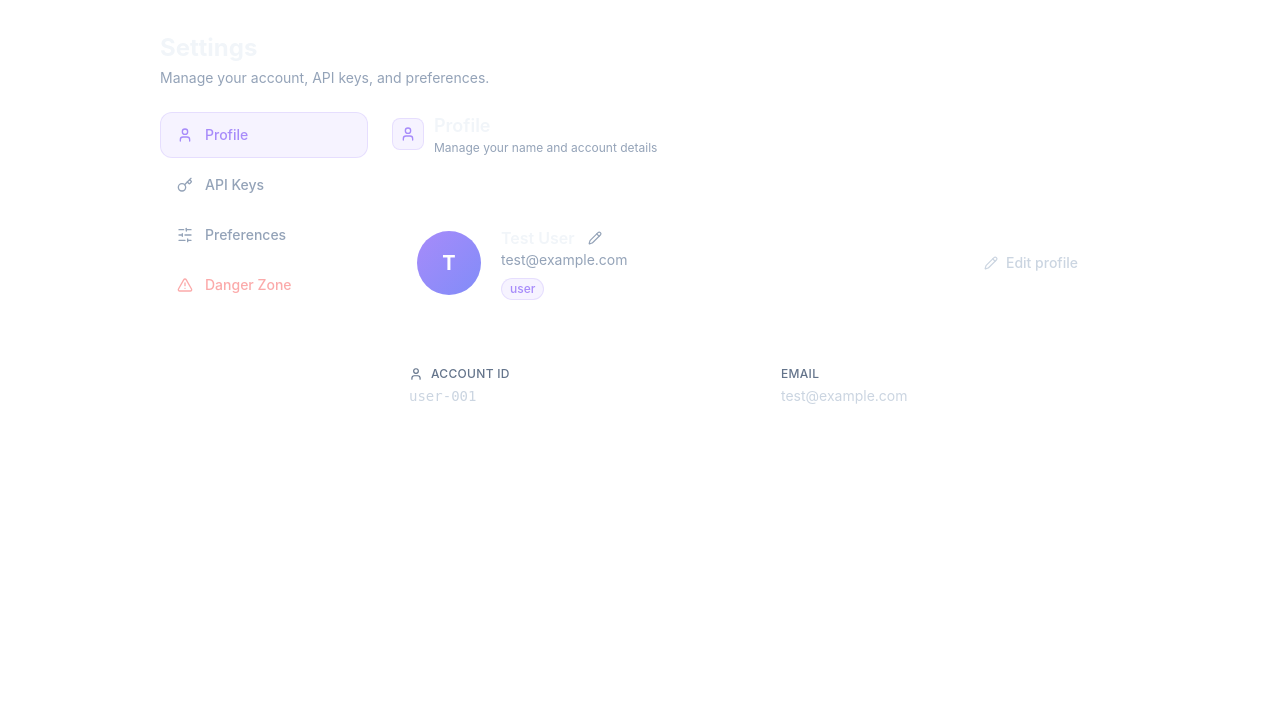
Revoke API key › removes the key from the list after successful revoke
Click the button "API Keys" at (264, 185), box [160,162,368,208]
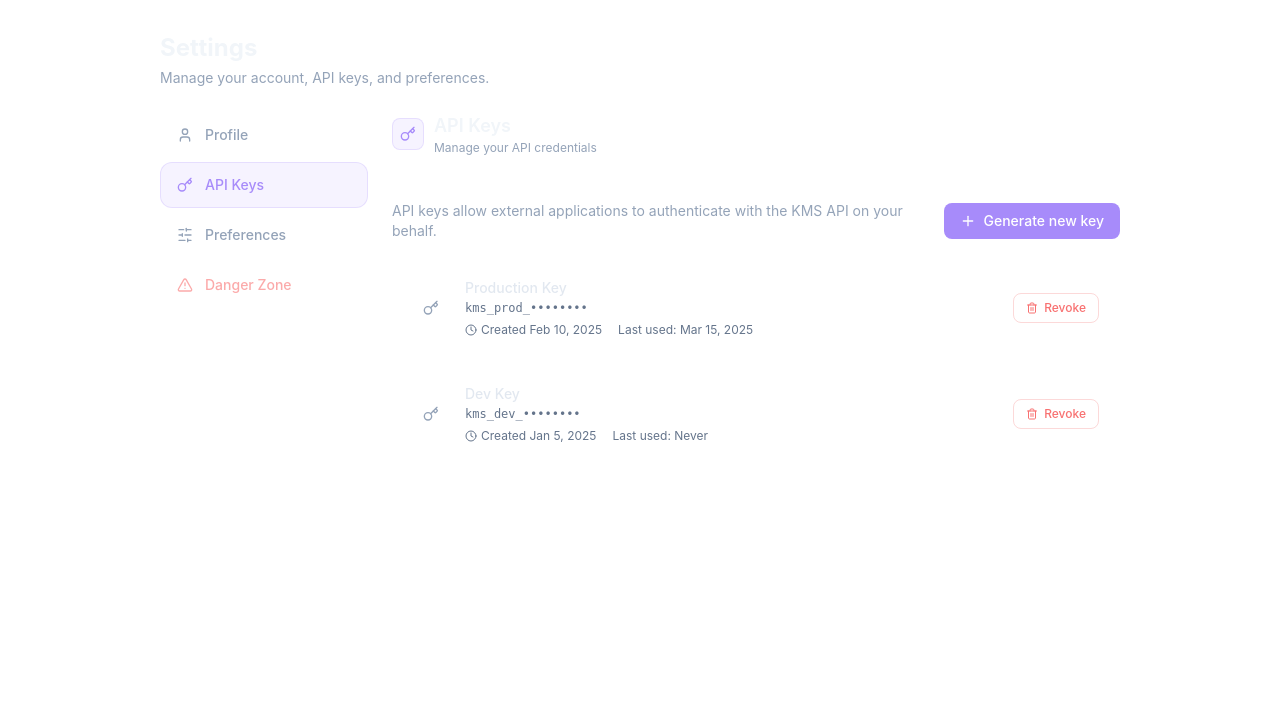
Check: the text "Production Key" is shown, box [465,279,567,296]
Click the button named "Revoke API key \"Production Key\"" at (1056, 308), box [1013,293,1099,323]
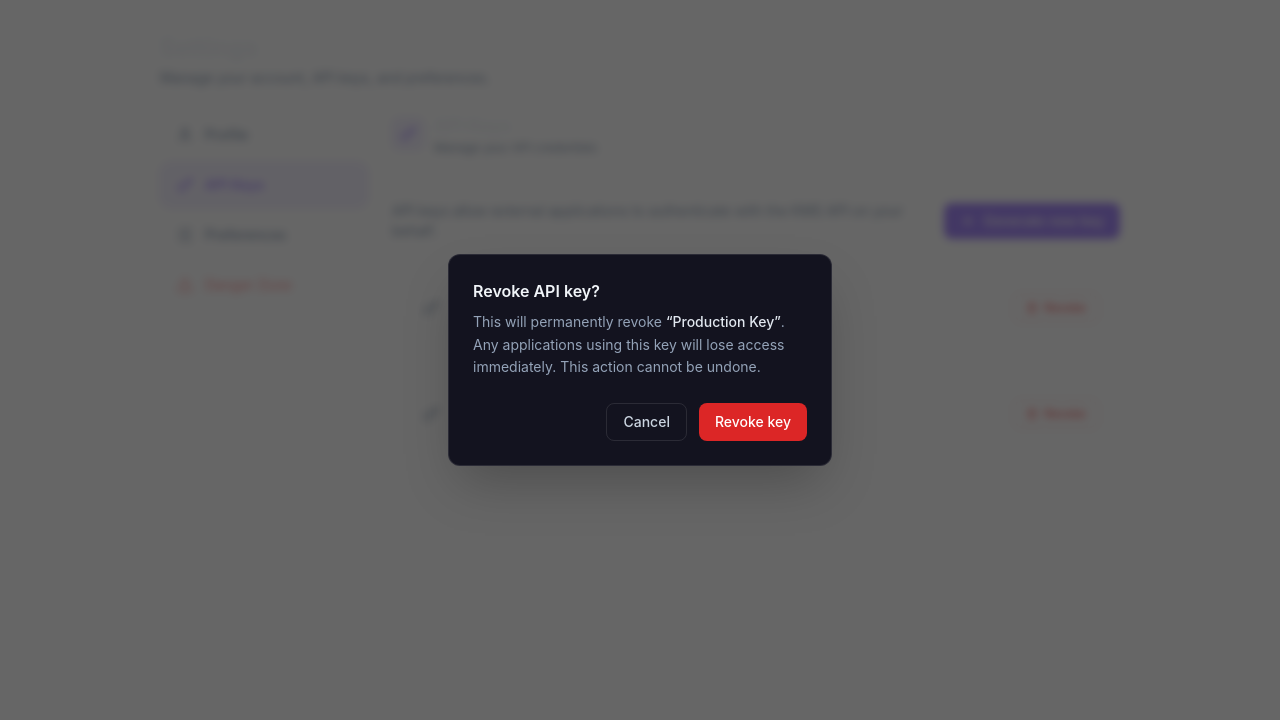
Click the button "Revoke key" at (753, 422), box [699,403,807,441]
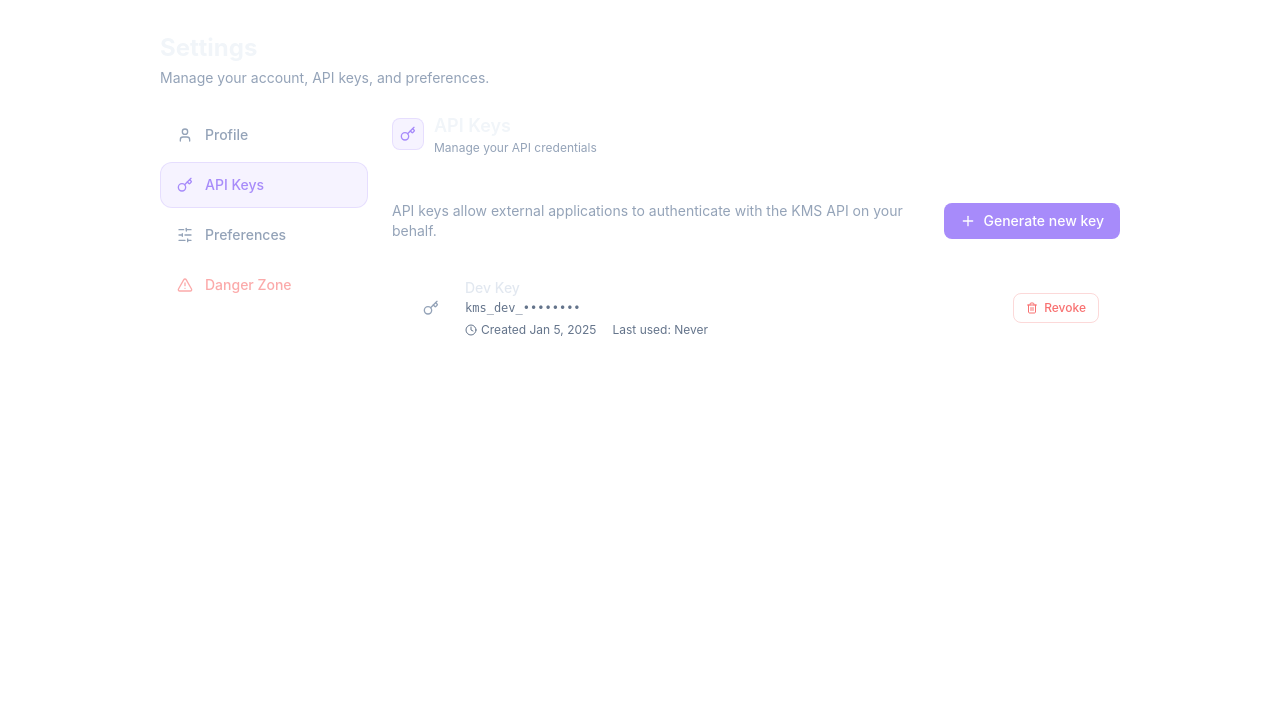
Check: the text "Production Key" is gone
